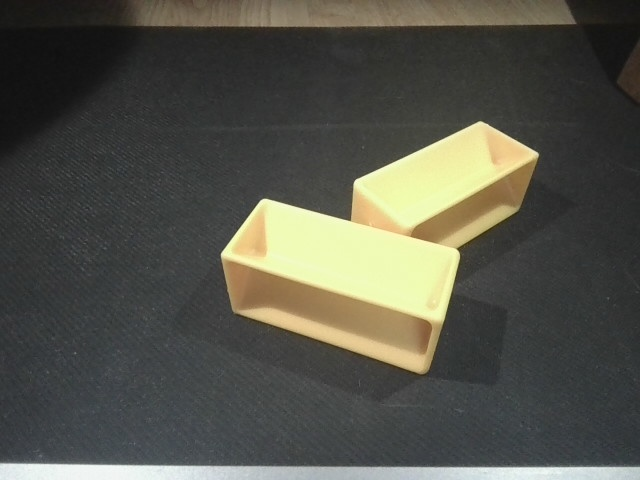YellowSample: (218, 192, 463, 380), (347, 119, 543, 256)
